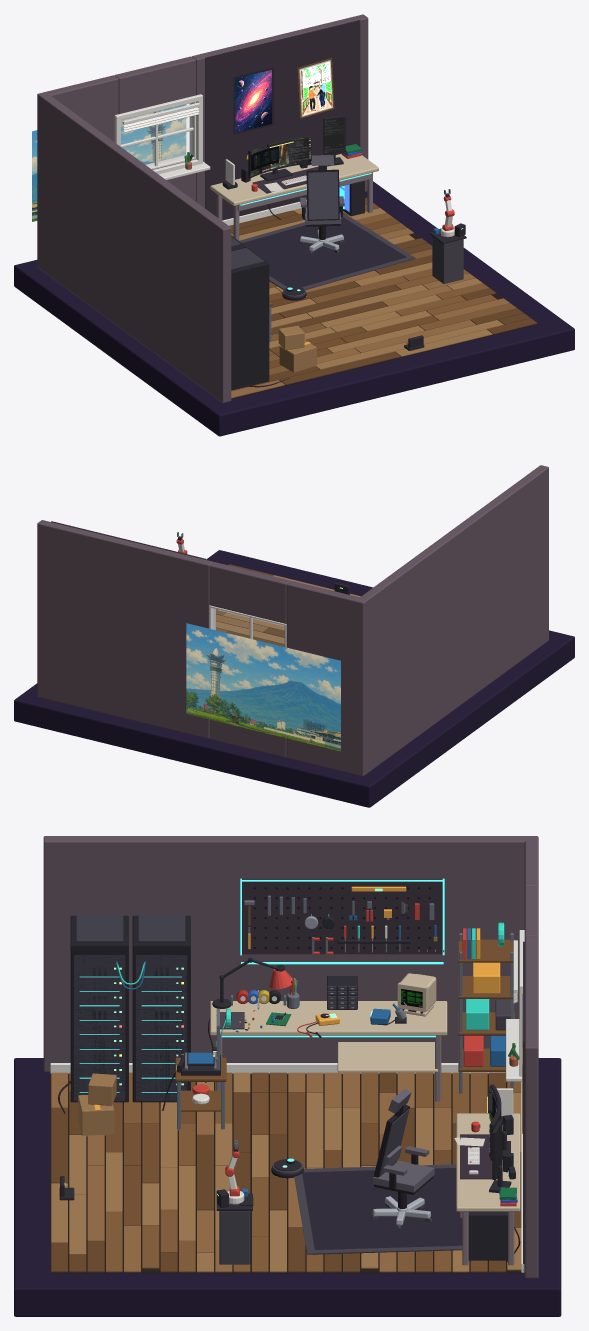
Rendered from maker_room.glb.
3 views of the same model, one above another, from view 1: azimuth 30°, elevation 25°; view 2: azimuth 150°, elevation 25°; view 3: azimuth 270°, elevation 25° (orthographic). The views are drawn at different scales.
Visible parts, largest first — view 1: Wall_Left, Slab, Panel_Dark, Rug, Rack0_Shell, Wall_Back_Head, Wall_Back_R, Wall_Back_L, Sky_View, Desk1_Top, Win_Glass, Poster_Galaxy (+25 smaller); view 2: Wall_Left, Wall_Back_R, Slab, Sky_View, Wall_Back_L, Wall_Back_Head, Wall_Back_Sill, Win_Glass, Plank_9_2; view 3: Wall_Left, Slab, Pegboard, Rug, Subfloor, Rack1_Face, Rack0_Face, Desk2_Top, Wall_Back_R, Rack0_Shell, Rack1_Shell, Desk1_Top (+70 smaller).
Part boxes in pixels (x1,y1,x2,y2): Wall_Left: (40,94,231,403); Slab: (14,181,574,436); Panel_Dark: (205,20,360,220); Rug: (242,217,406,289); Rack0_Shell: (231,247,269,390); Wall_Back_Head: (114,56,195,113); Wall_Back_R: (192,14,368,208); Wall_Back_L: (37,75,118,268); Sky_View: (32,104,186,221); Desk1_Top: (210,154,378,205); Win_Glass: (121,103,191,165); Poster_Galaxy: (235,70,271,132); Wall_Left: (359,465,548,773); Wall_Back_R: (37,520,213,738); Slab: (14,550,574,807); Sky_View: (186,623,340,751); Wall_Back_L: (286,581,367,776); Wall_Back_Head: (209,562,290,623); Wall_Back_Sill: (209,719,286,757); Win_Glass: (214,609,283,645); Plank_9_2: (216,621,284,644); Wall_Left: (43,836,528,1072); Slab: (14,1058,561,1316); Pegboard: (242,878,442,954); Rug: (302,1168,462,1254); Subfloor: (50,1073,524,1273); Rack1_Face: (136,955,187,1100); Rack0_Face: (74,955,125,1100); Desk2_Top: (210,1001,447,1035); Wall_Back_R: (524,936,538,1278); Rack0_Shell: (70,915,128,1103); Rack1_Shell: (132,915,190,1103); Desk1_Top: (456,1113,520,1211).
Size of the model in its own units: 6 by 3.15 by 6.15.
168 materials, 14 textured.
